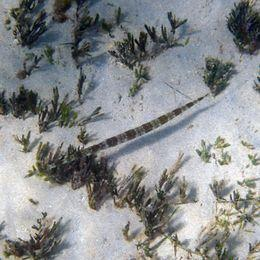Fistularia commersonii: (47, 88, 236, 173)
